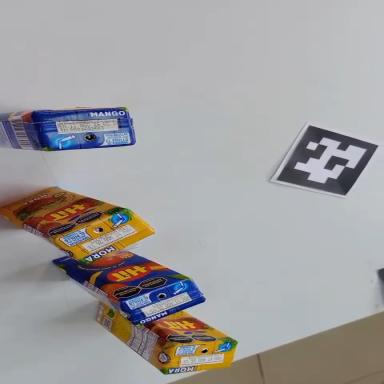HIT-MANGO: (43, 224, 211, 347), (0, 103, 136, 155)
HIT-MORA: (0, 173, 159, 280), (91, 302, 240, 382)
cara_F: (48, 225, 191, 323), (0, 161, 128, 256), (146, 298, 237, 369)
